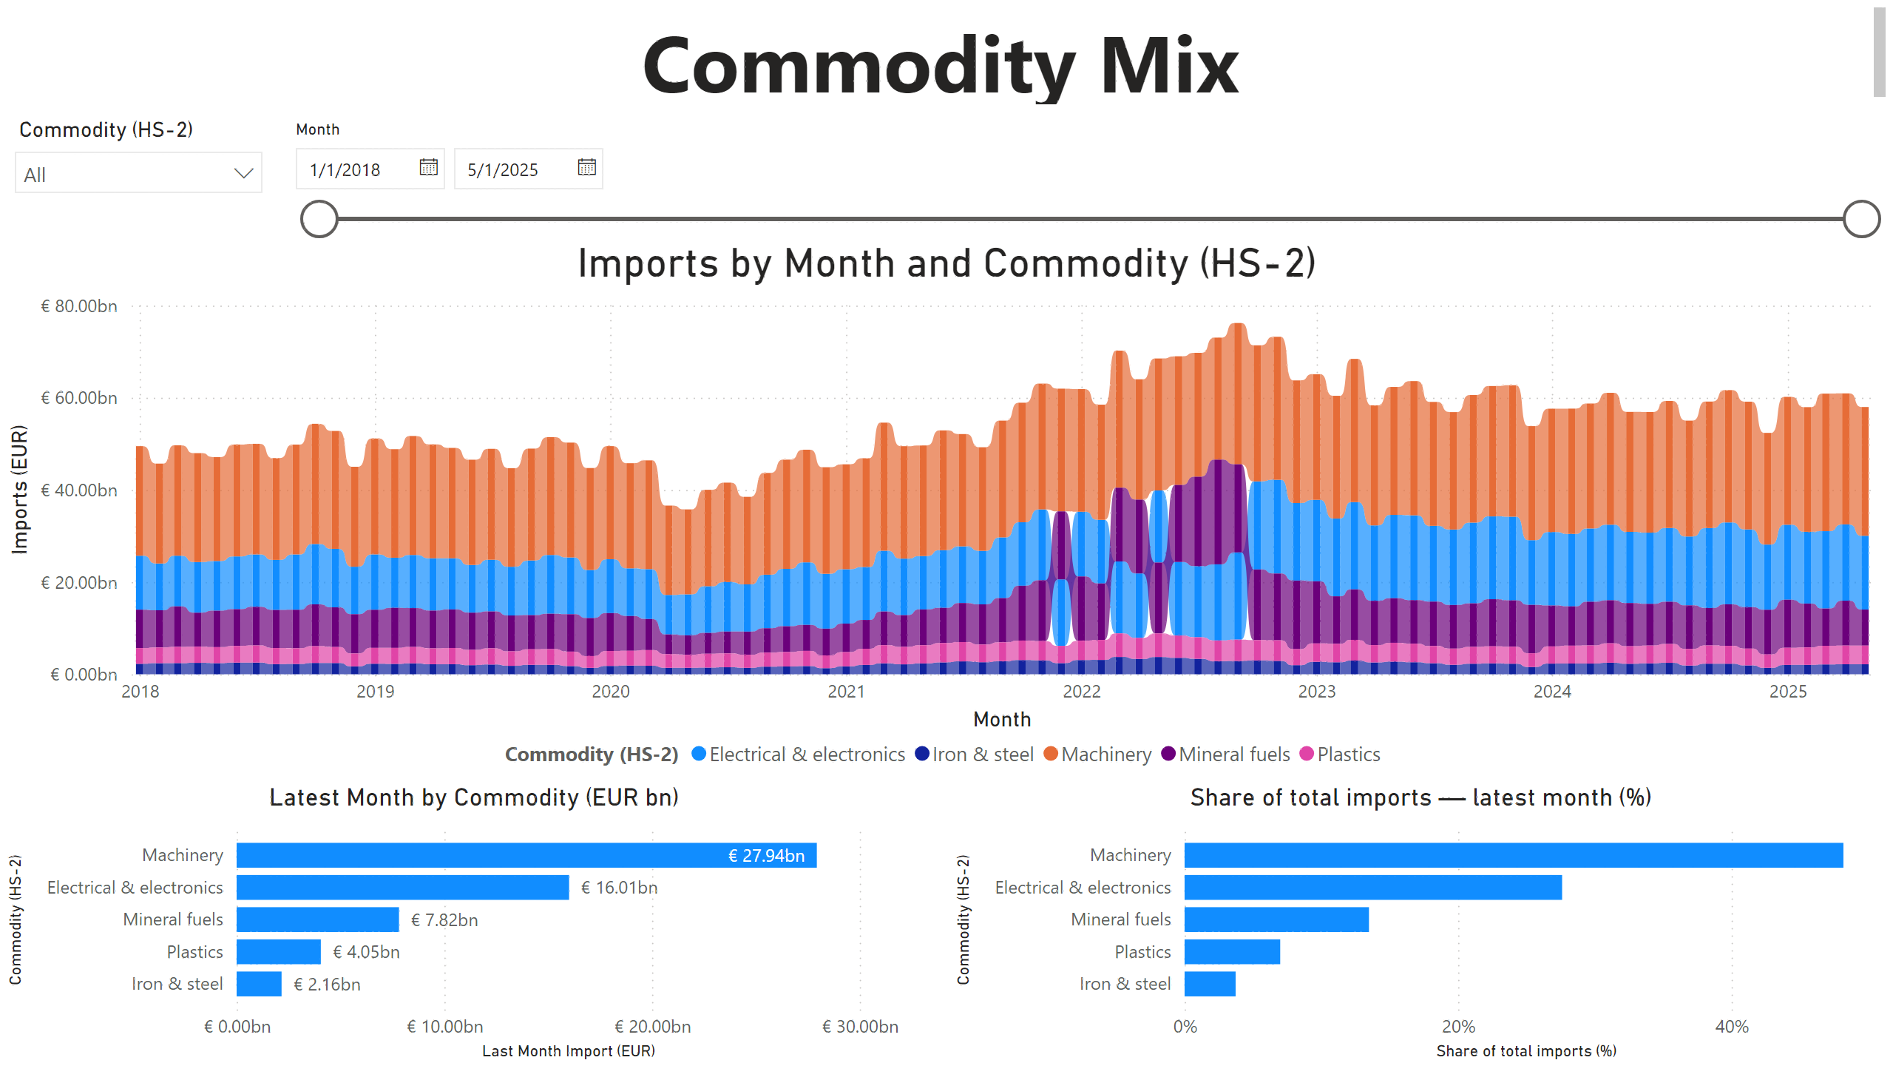

The page's visual inventory and layout, read from the dashboard file:
{"tool":"powerbi","page":{"name":"Commodity Mix","canvas":[1280,720],"ordinal":2},"visuals":[{"type":"ribbonChart","title":"Imports by Month and Commodity (HS-2)","fields":{"Category":["gold_monthly_metrics.month"],"Series":["gold_monthly_metrics.cmdDesc"],"Y":["Sum(gold_monthly_metrics.import_eur)"]},"box":[0,161.3,1280,367.6],"z":0},{"type":"clusteredBarChart","title":"Latest Month by Commodity (EUR bn)","fields":{"Category":["gold_monthly_metrics.cmdDesc"],"Y":["Sum(gold_monthly_metrics.import_eur)"]},"box":[0,528.9,640.7,191.8],"z":1000},{"type":"clusteredBarChart","title":"Share of total imports — latest month (%)","fields":{"Category":["gold_monthly_metrics.cmdDesc"],"Y":["Sum(gold_monthly_metrics.share_of_total_eur)"]},"box":[640.7,528.9,639.3,191.8],"z":2000},{"type":"slicer","fields":{"Values":["gold_monthly_metrics.cmdDesc"]},"box":[0,74.1,187.4,85.7],"z":3000},{"type":"slicer","fields":{"Values":["gold_monthly_metrics.month"]},"box":[187.4,75.6,1092.6,85.7],"z":4000},{"type":"textbox","box":[0,0,1280,75.6],"z":4001}]}

Visuals, with their boxes in screenshot pixels (x1, y1, x2, y2), scaled from the page's 1280x720 canvas onto the 1894x1080 screenshot:
"Imports by Month and Commodity (HS-2)" ribbonChart: (left=0, top=242, right=1893, bottom=793)
"Latest Month by Commodity (EUR bn)" clusteredBarChart: (left=0, top=793, right=948, bottom=1079)
"Share of total imports — latest month (%)" clusteredBarChart: (left=948, top=793, right=1893, bottom=1079)
slicer - gold_monthly_metrics.cmdDesc: (left=0, top=111, right=277, bottom=240)
slicer - gold_monthly_metrics.month: (left=277, top=113, right=1893, bottom=242)
textbox: (left=0, top=0, right=1893, bottom=113)
